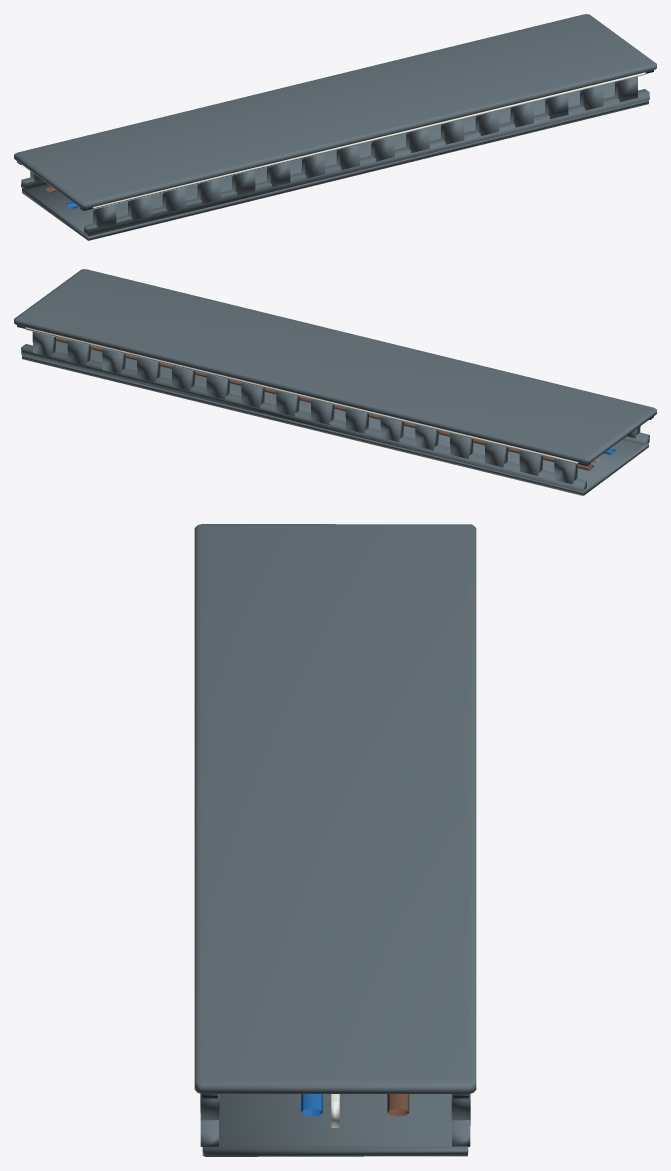
Rendered from conduit_slotted-trunking.low.glb.
3 views of the same model, one above another, from view 1: azimuth 30°, elevation 25°; view 2: azimuth 150°, elevation 25°; view 3: azimuth 270°, elevation 25° (orthographic). The views are drawn at different scales.
Parts seen in each view (by area): view 1: part:cover, part:body · Original 0905ee26, detail:cable-management-construction · Detail porcelain whit; view 2: part:cover, part:body · Original 0905ee26, detail:cable-management-construction · Detail porcelain whit, part:sheath; view 3: part:cover, part:body · Original 0905ee26, part:sheath.
Part boxes in pixels (<box>): part:cover: <box>14,14,656,208</box>; part:body · Original 0905ee26: <box>21,76,649,240</box>; detail:cable-management-construction · Detail porcelain whit: <box>92,72,645,209</box>; part:cover: <box>14,269,656,463</box>; part:body · Original 0905ee26: <box>21,331,649,495</box>; detail:cable-management-construction · Detail porcelain whit: <box>25,327,598,464</box>; part:sheath: <box>56,337,615,470</box>; part:cover: <box>194,524,476,1093</box>; part:body · Original 0905ee26: <box>200,1093,470,1156</box>; part:sheath: <box>301,1094,409,1116</box>.
Size of the model in its own units: 1.4 by 0.102 by 0.2957.
